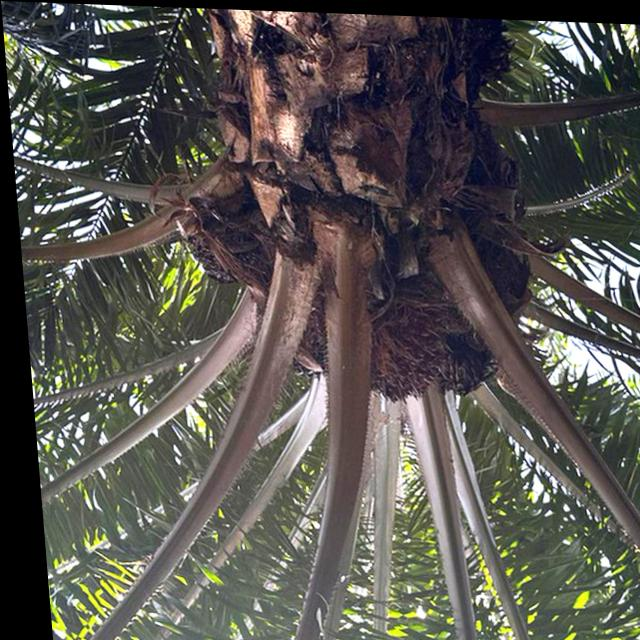ripe: (337, 273, 477, 409)
